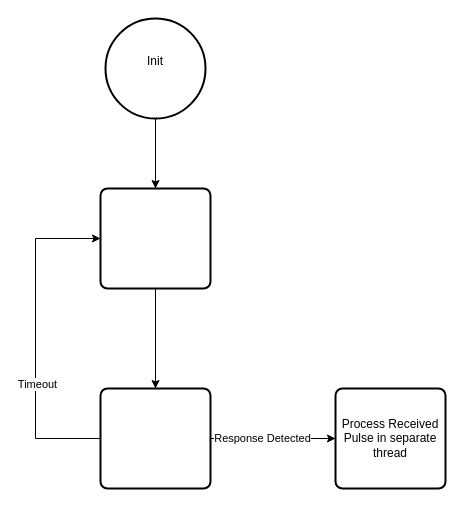
This 463x506 diagram has some shape labels left out. The shapes that lost their labels are listed below. From the top down, each one's box as (x1, y1, x2, y2) in pixels, then its label:
(99, 187, 211, 289): Generate/Select then Transmit Pulse
(99, 387, 211, 489): Wait for RX
